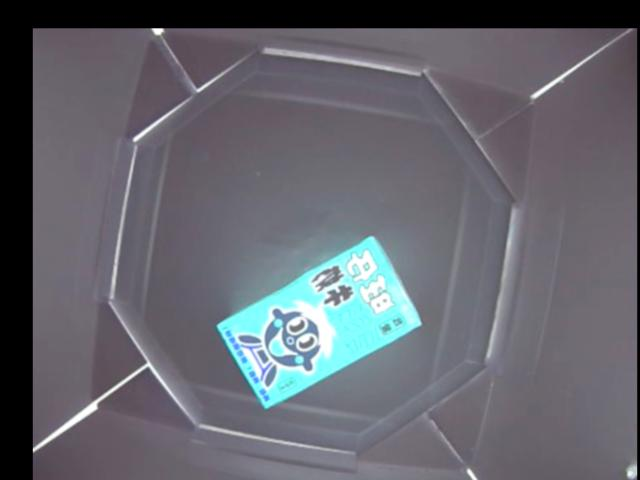Bottle: (217, 233, 423, 406)
